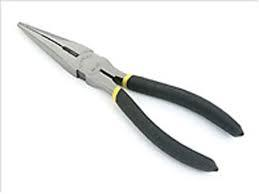pliers: (15, 20, 244, 171)
